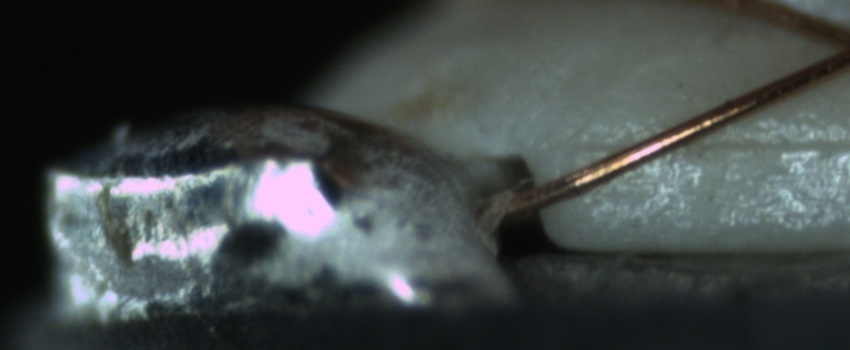CL: (804, 11, 850, 79)
DL: (599, 114, 849, 176)
